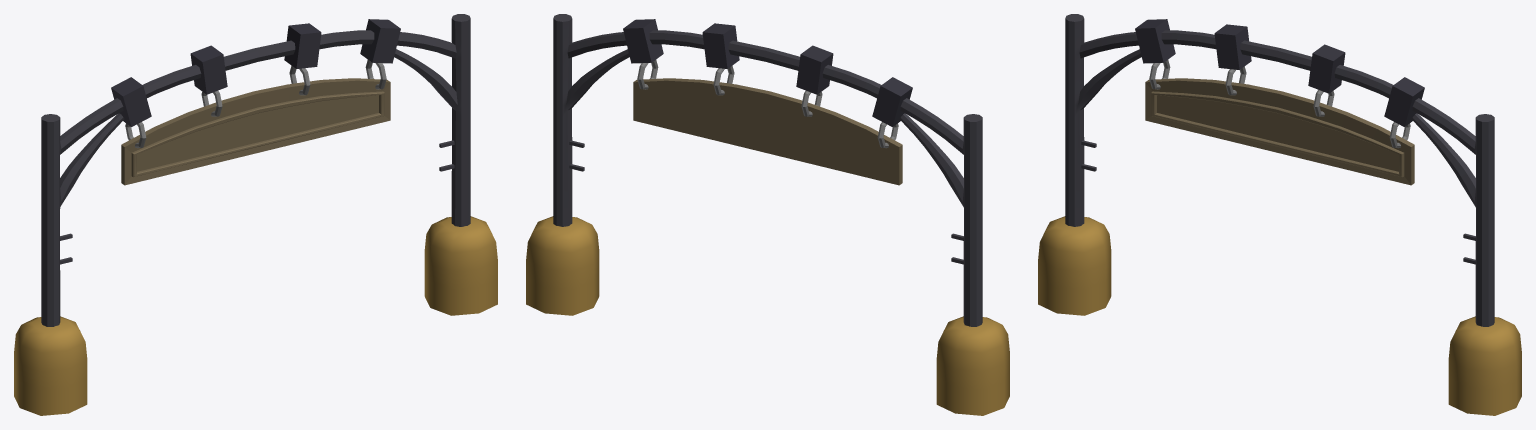
The model's file is StartSign.fbx.
3 renders of one model, left to right at view 1: azimuth 30°, elevation 25°; view 2: azimuth 150°, elevation 25°; view 3: azimuth 330°, elevation 25°, orthographic.
Parts seen in each view (by area): view 1: SignBody, Sign, SignBaseL, SignBaseR, Cubes, Rings; view 2: SignBody, Sign, SignBaseR, SignBaseL, Cubes, Rings; view 3: SignBody, Sign, SignBaseR, SignBaseL, Cubes, Rings.
Part boxes in pixels (<box>): SignBody: <box>41,14,470,326</box>; Sign: <box>121,78,390,185</box>; SignBaseL: <box>14,316,87,415</box>; SignBaseR: <box>424,216,497,315</box>; Cubes: <box>111,19,400,126</box>; Rings: <box>125,60,386,148</box>; SignBody: <box>553,14,982,326</box>; Sign: <box>633,78,902,185</box>; SignBaseR: <box>526,216,599,315</box>; SignBaseL: <box>936,316,1009,415</box>; Cubes: <box>623,19,912,126</box>; Rings: <box>637,60,898,148</box>; SignBody: <box>1065,14,1494,326</box>; Sign: <box>1145,78,1414,185</box>; SignBaseR: <box>1448,316,1521,415</box>; SignBaseL: <box>1038,216,1111,315</box>; Cubes: <box>1135,19,1424,126</box>; Rings: <box>1149,60,1410,148</box>.
Bounding box in the file's own units: 16.12 × 10.16 × 2.12.
